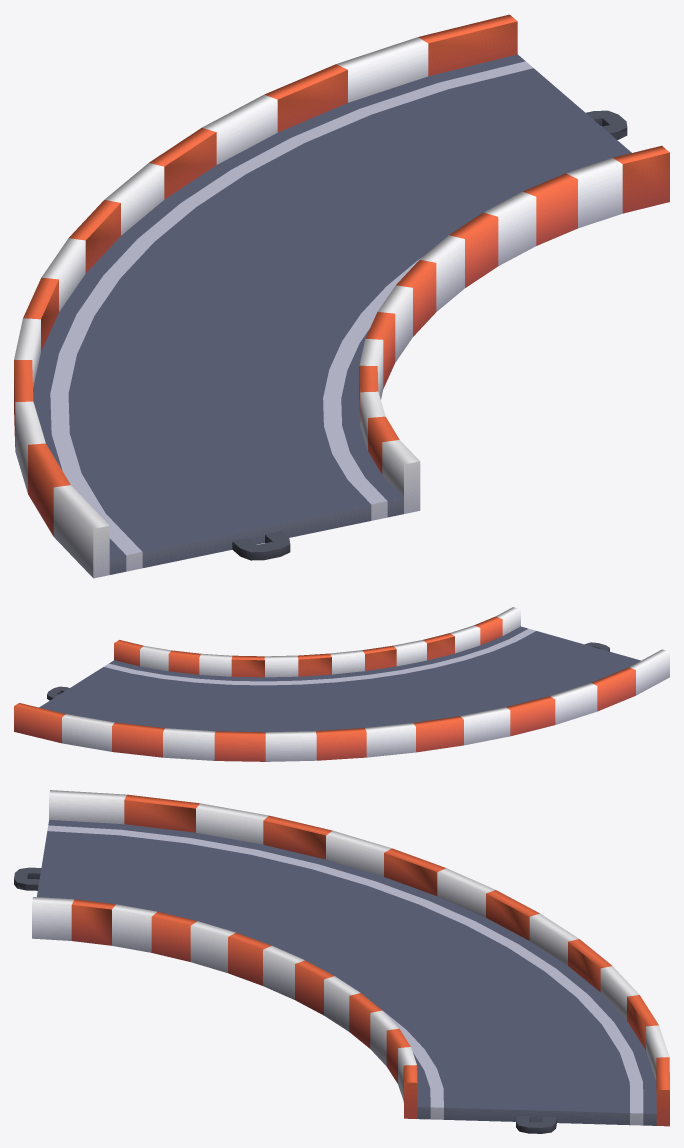
The model's file is track-road-wide-corner-large.003_lev1.glb.
The picture shows the model from 3 angles, top to bottom: view 1: azimuth 30°, elevation 25°; view 2: azimuth 150°, elevation 25°; view 3: azimuth 270°, elevation 25°; orthographic projection. The views are drawn at different scales.
Visible parts, largest first — view 1: track-road-wide-corner-large.003_lev1; view 2: track-road-wide-corner-large.003_lev1; view 3: track-road-wide-corner-large.003_lev1.
Part boxes in pixels (x1,y1,x2,y2): track-road-wide-corner-large.003_lev1: [14, 14, 669, 578]; track-road-wide-corner-large.003_lev1: [14, 607, 669, 761]; track-road-wide-corner-large.003_lev1: [14, 790, 669, 1133].
Size of the model in its own units: 5.46 by 0.3 by 4.92.
1 material, 1 textured.
